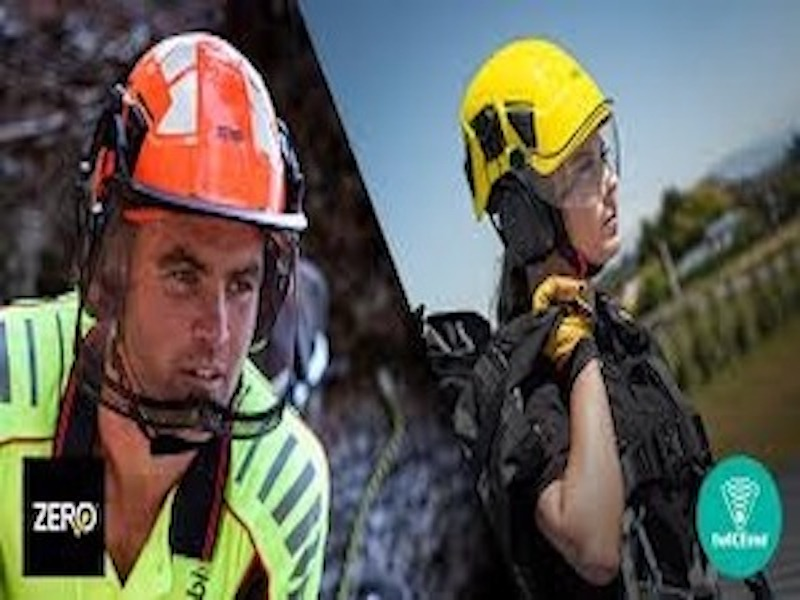safety: (101, 34, 306, 220), (465, 32, 624, 198)
